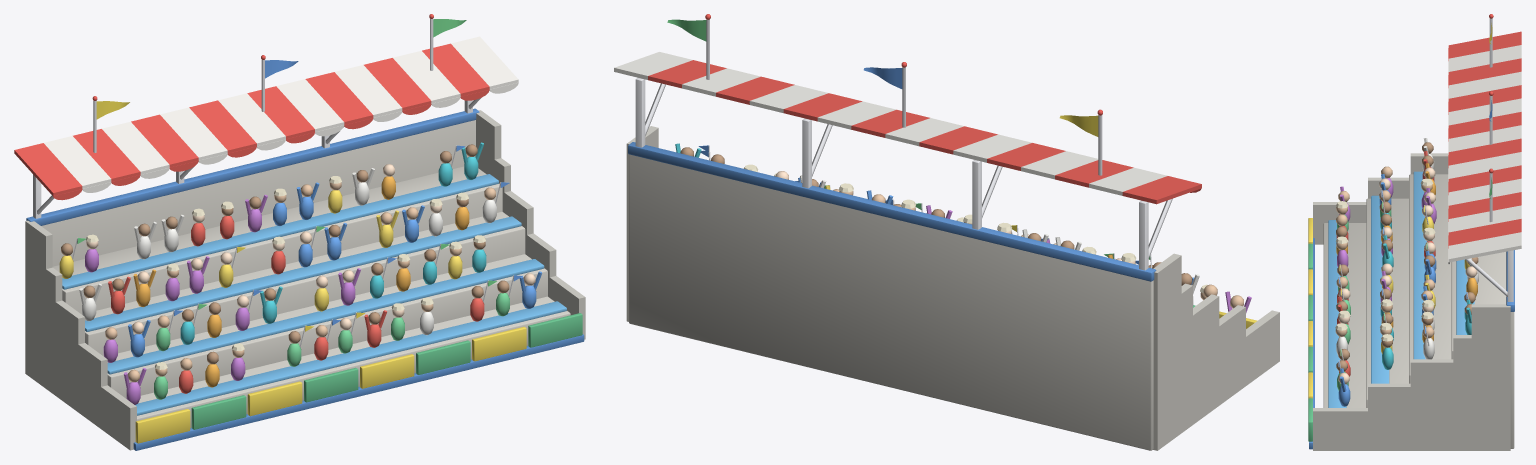
File: grandstand.glb
3 views of the same model, side by side, from view 1: azimuth 30°, elevation 25°; view 2: azimuth 150°, elevation 25°; view 3: azimuth 270°, elevation 25° (orthographic). The views are drawn at different scales.
Visible parts, largest first — view 1: grandstand; view 2: grandstand; view 3: grandstand.
Part boxes in pixels (left/top/right/bottom): grandstand: left=14, top=14, right=585, bottom=450; grandstand: left=614, top=14, right=1279, bottom=450; grandstand: left=1308, top=14, right=1521, bottom=450.
Size of the model in its own units: 8.3 by 4.61 by 3.5.
